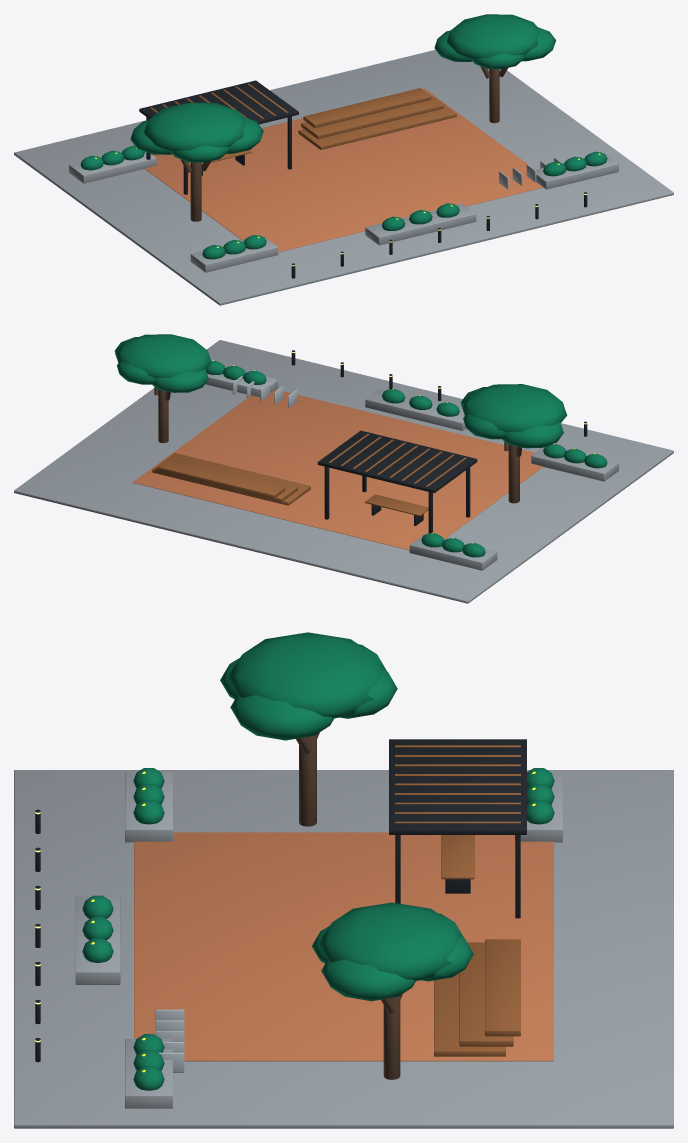
Rendered from shared_space_plaza.glb.
The picture shows the model from 3 angles, top to bottom: view 1: azimuth 30°, elevation 25°; view 2: azimuth 150°, elevation 25°; view 3: azimuth 270°, elevation 25°; orthographic projection. The views are drawn at different scales.
Visible parts, largest first — view 1: Plaza_Base_Stone, Plaza_Terracotta_Court, Plaza_Tree_West_Canopy_0, Plaza_Tree_East_Canopy_0, Plaza_Pergola_Frame, Plaza_Amphitheatre_Step_0, Plaza_Amphitheatre_Step_2, Plaza_Amphitheatre_Step_1, Plaza_Planter_3, Plaza_Planter_0, Plaza_Planter_2, Plaza_Planter_1 (+8 smaller); view 2: Plaza_Base_Stone, Plaza_Terracotta_Court, Plaza_Pergola_Frame, Plaza_Tree_West_Canopy_0, Plaza_Tree_East_Canopy_0, Plaza_Amphitheatre_Step_2, Plaza_Planter_3, Plaza_Planter_2, Plaza_Planter_0, Plaza_Amphitheatre_Step_0, Plaza_Tree_West_Canopy_1, Plaza_Amphitheatre_Step_1 (+7 smaller); view 3: Plaza_Base_Stone, Plaza_Terracotta_Court, Plaza_Pergola_Frame, Plaza_Tree_West_Canopy_0, Plaza_Tree_East_Canopy_0, Plaza_Amphitheatre_Step_2, Plaza_Tree_West_Canopy_2, Plaza_Amphitheatre_Step_1, Plaza_Amphitheatre_Step_0, Plaza_Tree_East_Canopy_2, Plaza_Planter_3, Plaza_Planter_0 (+7 smaller).
Boxes of the visible parts, x1=… form: Plaza_Base_Stone: x1=14, y1=50, x2=673, y2=305; Plaza_Terracotta_Court: x1=144, y1=88, x2=543, y2=252; Plaza_Tree_West_Canopy_0: x1=144, y1=102, x2=245, y2=152; Plaza_Tree_East_Canopy_0: x1=447, y1=14, x2=539, y2=60; Plaza_Pergola_Frame: x1=139, y1=80, x2=298, y2=124; Plaza_Amphitheatre_Step_0: x1=298, y1=97, x2=456, y2=149; Plaza_Amphitheatre_Step_2: x1=303, y1=88, x2=431, y2=127; Plaza_Amphitheatre_Step_1: x1=301, y1=92, x2=443, y2=138; Plaza_Planter_3: x1=365, y1=203, x2=476, y2=245; Plaza_Planter_0: x1=190, y1=236, x2=278, y2=272; Plaza_Planter_2: x1=69, y1=152, x2=156, y2=183; Plaza_Planter_1: x1=535, y1=153, x2=618, y2=189; Plaza_Base_Stone: x1=14, y1=340, x2=673, y2=603; Plaza_Terracotta_Court: x1=132, y1=389, x2=543, y2=550; Plaza_Pergola_Frame: x1=317, y1=430, x2=477, y2=493; Plaza_Tree_West_Canopy_0: x1=461, y1=384, x2=567, y2=432; Plaza_Tree_East_Canopy_0: x1=115, y1=334, x2=211, y2=378; Plaza_Amphitheatre_Step_2: x1=157, y1=458, x2=285, y2=498; Plaza_Planter_3: x1=365, y1=389, x2=465, y2=430; Plaza_Planter_2: x1=409, y1=534, x2=497, y2=570; Plaza_Planter_0: x1=531, y1=447, x2=618, y2=481; Plaza_Amphitheatre_Step_0: x1=152, y1=453, x2=310, y2=505; Plaza_Tree_West_Canopy_1: x1=502, y1=422, x2=563, y2=448; Plaza_Amphitheatre_Step_1: x1=155, y1=456, x2=297, y2=502; Plaza_Base_Stone: x1=14, y1=770, x2=673, y2=1128; Plaza_Terracotta_Court: x1=134, y1=832, x2=553, y2=1061; Plaza_Pergola_Frame: x1=389, y1=739, x2=526, y2=834; Plaza_Tree_West_Canopy_0: x1=227, y1=632, x2=383, y2=718; Plaza_Tree_East_Canopy_0: x1=318, y1=902, x2=460, y2=980; Plaza_Amphitheatre_Step_2: x1=485, y1=939, x2=520, y2=1036; Plaza_Tree_West_Canopy_2: x1=230, y1=694, x2=333, y2=740; Plaza_Amphitheatre_Step_1: x1=459, y1=942, x2=513, y2=1046; Plaza_Amphitheatre_Step_0: x1=434, y1=973, x2=505, y2=1056; Plaza_Tree_East_Canopy_2: x1=321, y1=958, x2=415, y2=1001; Plaza_Planter_3: x1=75, y1=896, x2=120, y2=984; Plaza_Planter_0: x1=125, y1=772, x2=172, y2=842.
Bounding box in the file's own units: 28 × 6.45 × 22.
